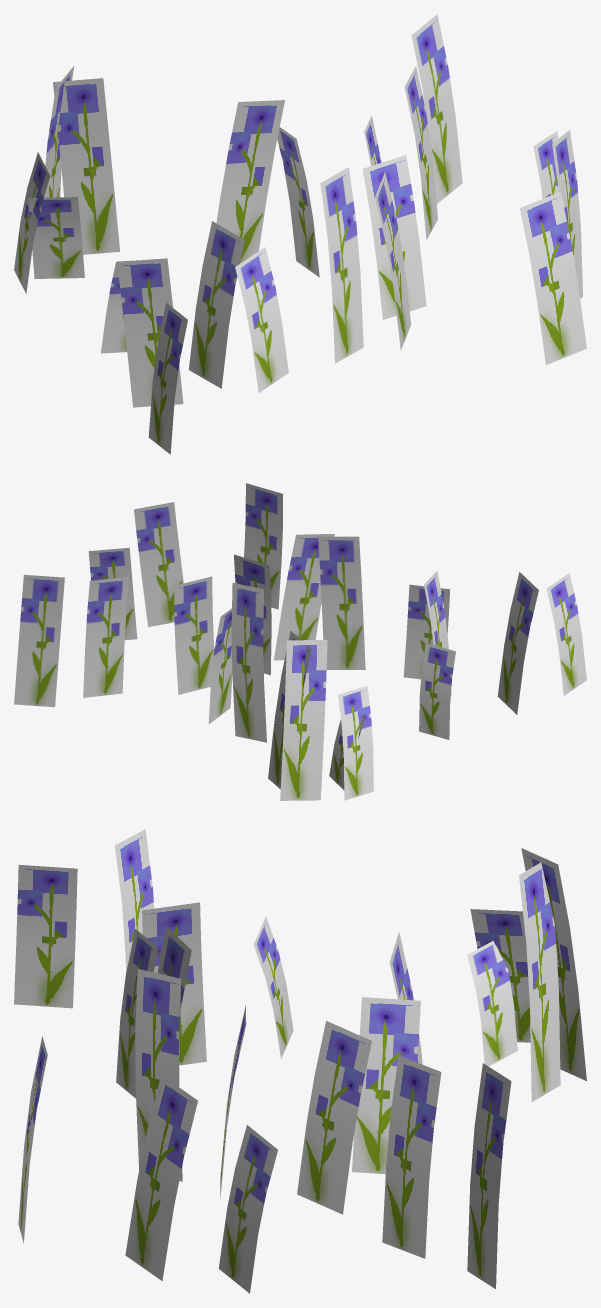
Rendered from AR_Flowers_005.FBX.
3 renders of one model, top to bottom at view 1: azimuth 30°, elevation 25°; view 2: azimuth 150°, elevation 25°; view 3: azimuth 270°, elevation 25°, orthographic. The views are drawn at different scales.
Parts seen in each view (by area): view 1: AR_flower_005; view 2: AR_flower_005; view 3: AR_flower_005.
Boxes of the visible parts, x1,y1,x2,y2 form: AR_flower_005: (14, 14, 586, 454); AR_flower_005: (14, 483, 586, 800); AR_flower_005: (14, 829, 586, 1293).
Bounding box in the file's own units: 78.07 × 28.34 × 65.87.
